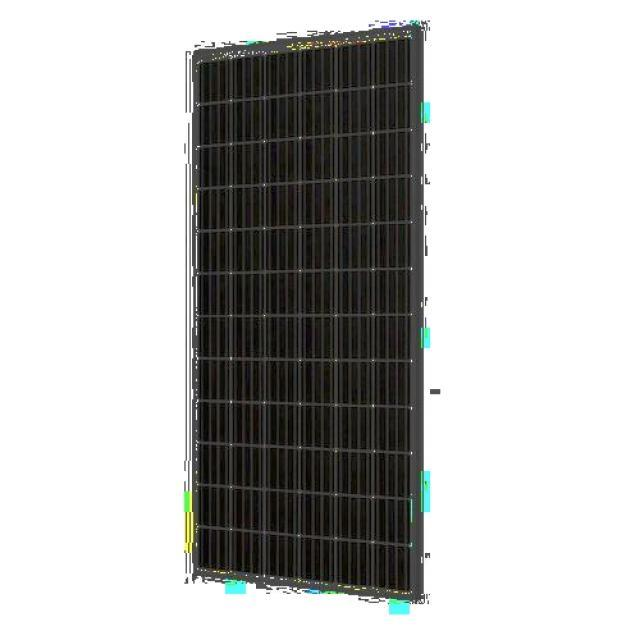no faulty: (197, 27, 420, 594)
